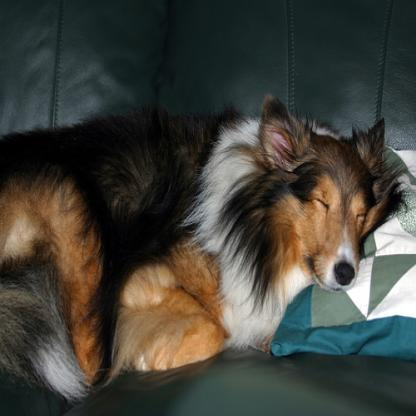Shetland_sheepdog: (0, 92, 399, 397)
